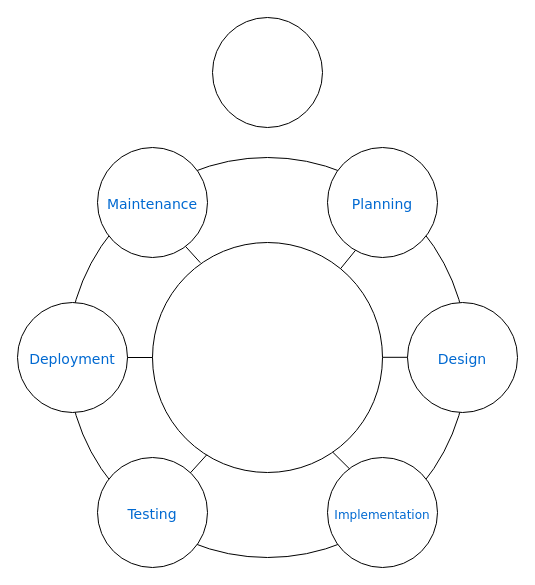
Some shapes in this 535 by 585 pixel diagram are drawn without their labels. The shapes that lost their labels are listed below. From the top down, each one's box as (x1, y1, x2, y2) in pixels, then its label:
(212, 16, 322, 128): Retirement
(152, 242, 382, 472): Software Development Life Cycle
